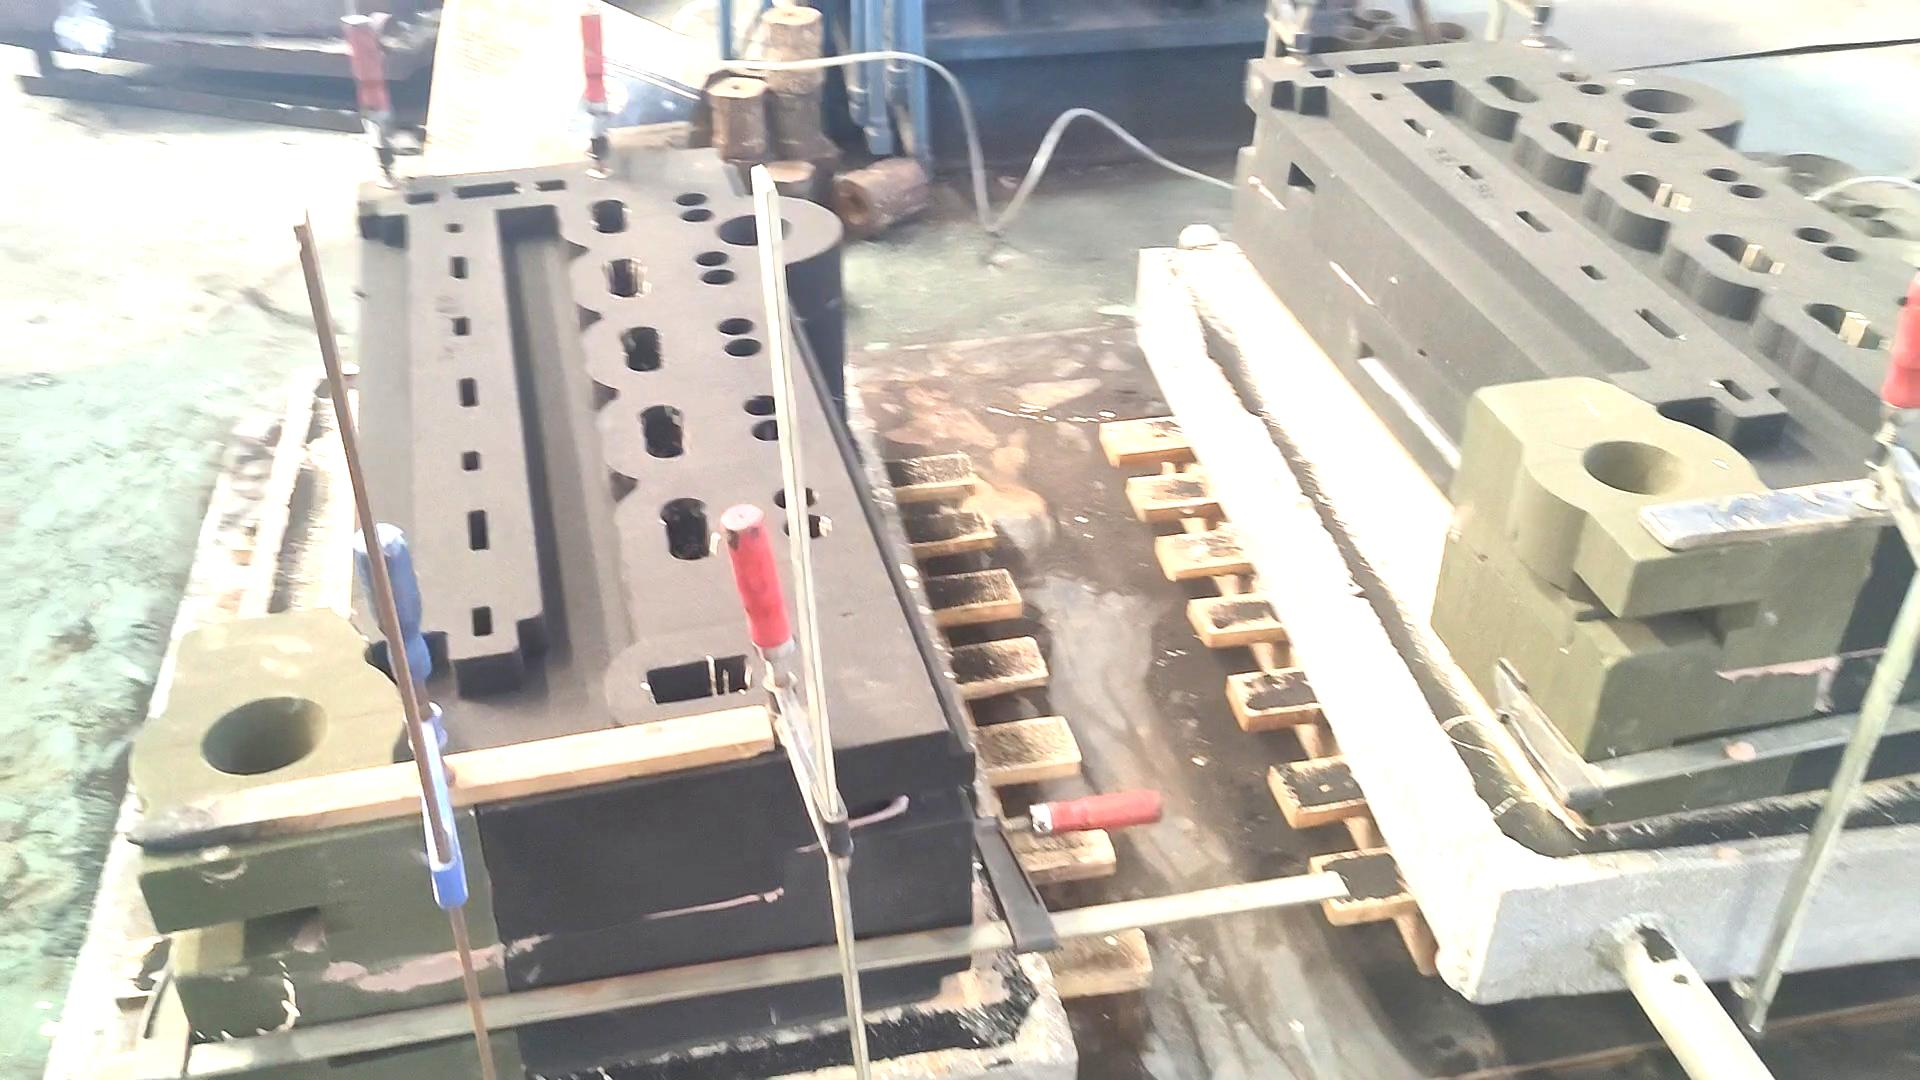pouring hole: (200, 695, 327, 775), (1582, 440, 1693, 495), (715, 211, 794, 247), (1625, 88, 1702, 113), (1424, 21, 1472, 40), (1332, 25, 1373, 44), (1375, 25, 1418, 40), (1361, 7, 1395, 21)
